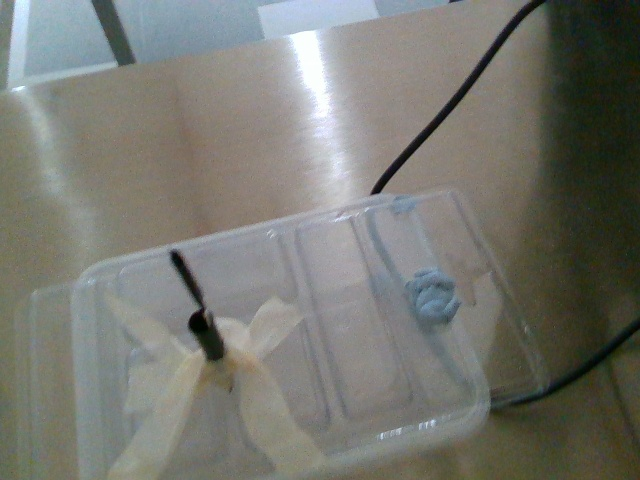test_strip: (168, 247, 208, 320)
